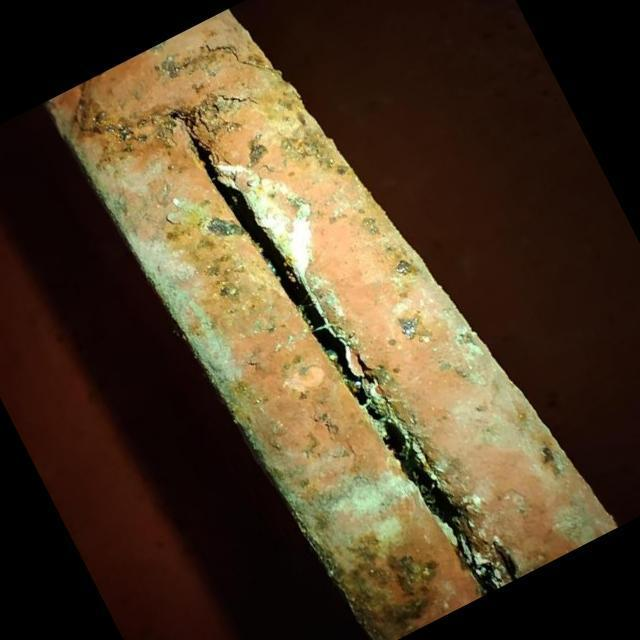defect: (188, 129, 510, 595), (200, 40, 266, 70), (215, 93, 262, 105)
